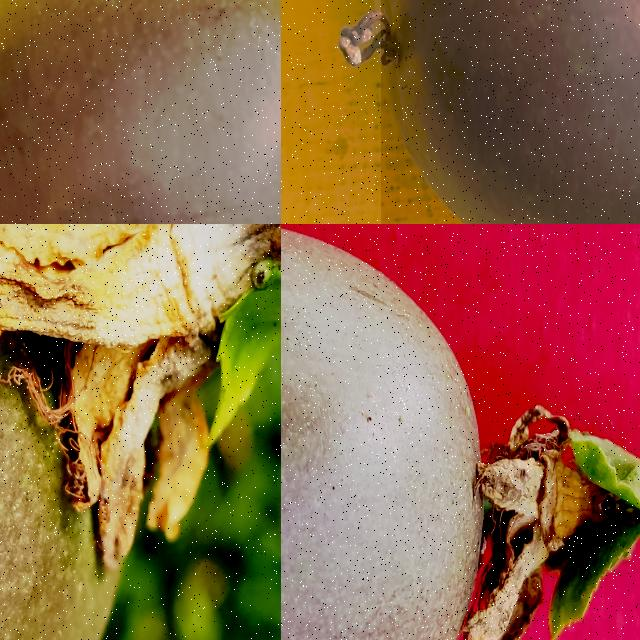Estado-2: (281, 228, 640, 640)
Estado-4: (0, 0, 281, 224)
